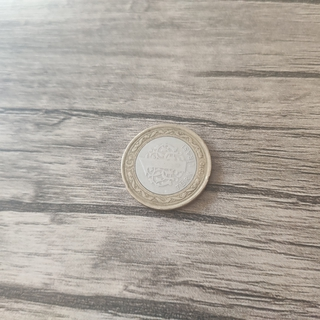1TL: (118, 121, 212, 211)
